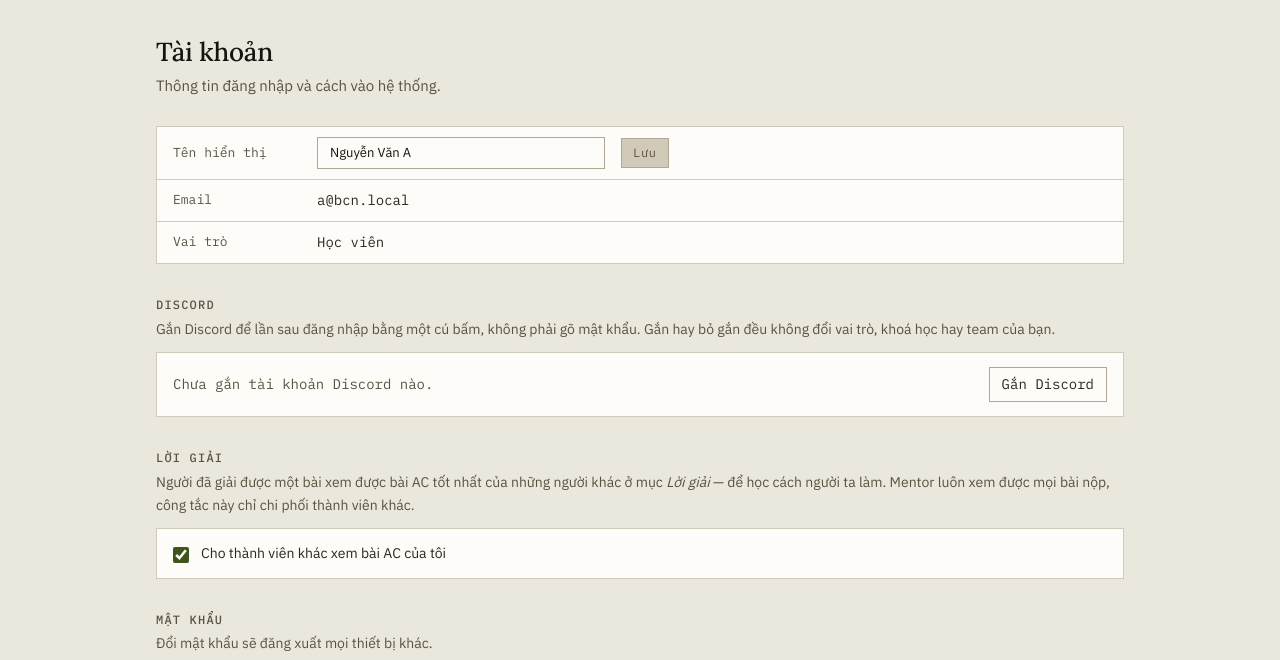
đổi tên hiển thị › server từ chối thì nói lý do của server
Type "B" into the field labelled "Tên hiển thị" at point(461, 153), box [317, 136, 605, 169]
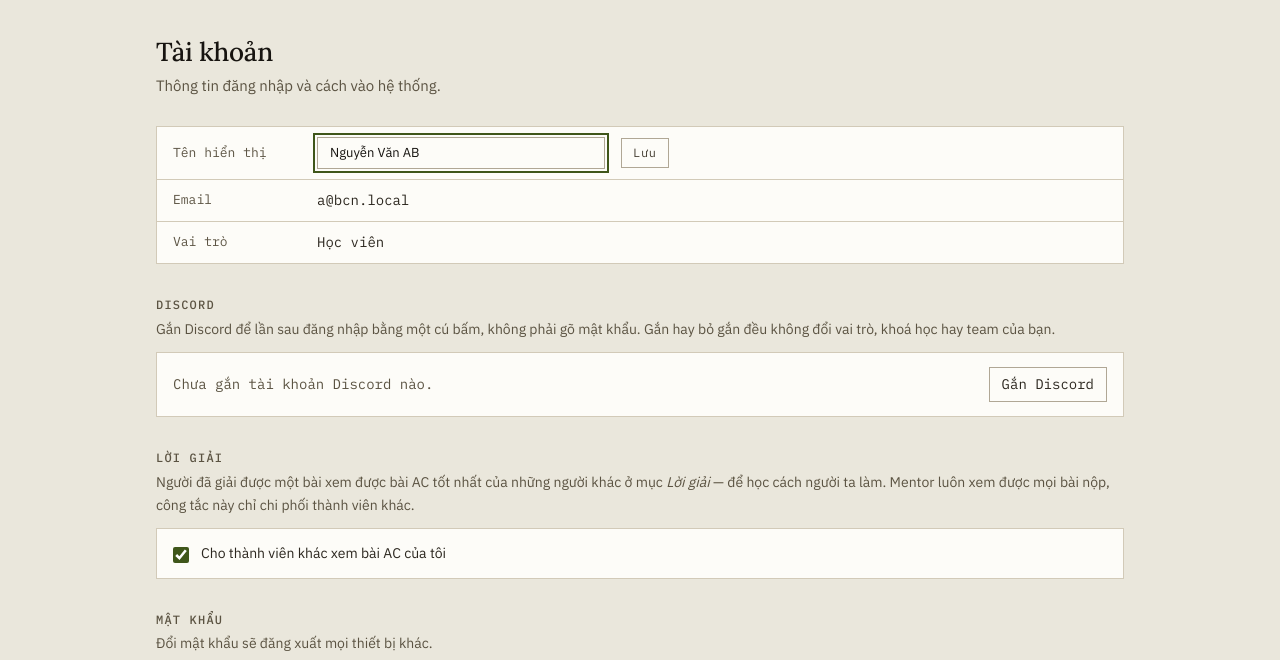
Click the button "Lưu" at point(645, 153), box [621, 138, 669, 168]
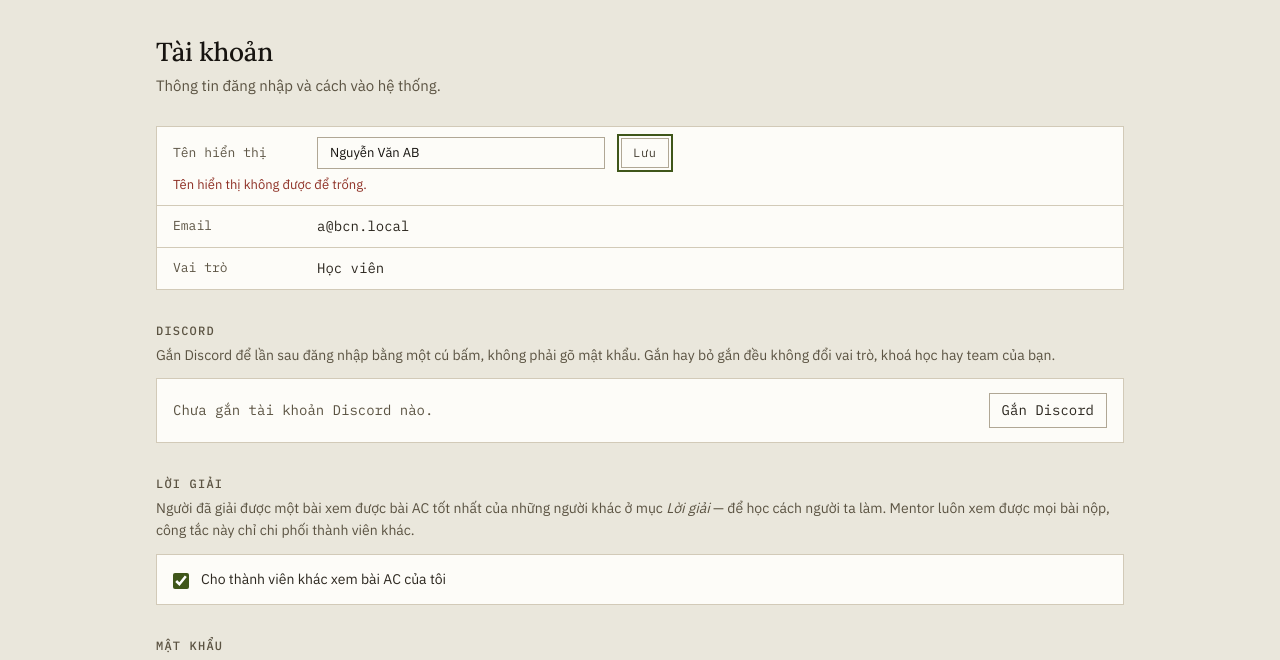
Expected: the message reads "Tên hiển thị không được để trống.", [173, 176, 367, 193]
